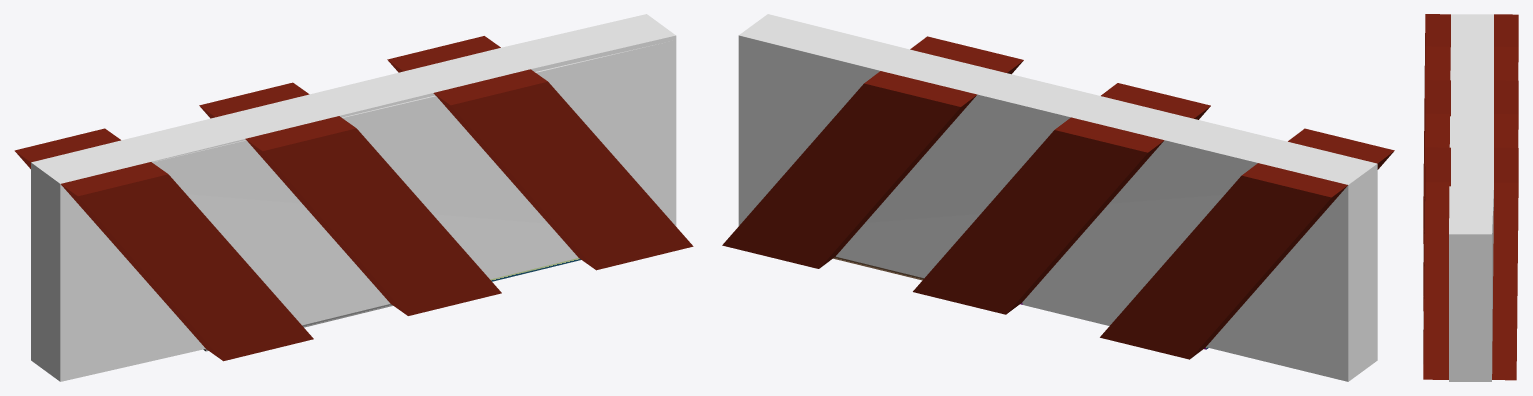
The model's file is barrera.fbx.
3 renders of one model, left to right at view 1: azimuth 30°, elevation 25°; view 2: azimuth 150°, elevation 25°; view 3: azimuth 270°, elevation 25°, orthographic. The views are drawn at different scales.
Visible parts, largest first — view 1: Cube; view 2: Cube; view 3: Cube.
Boxes of the visible parts, bbox=[...] form: Cube: bbox=[14, 14, 693, 381]; Cube: bbox=[722, 14, 1394, 381]; Cube: bbox=[1423, 14, 1518, 381].
Size of the model in its own units: 303 by 95.28 by 55.53.
Materials: 1 (1 with a texture image).
